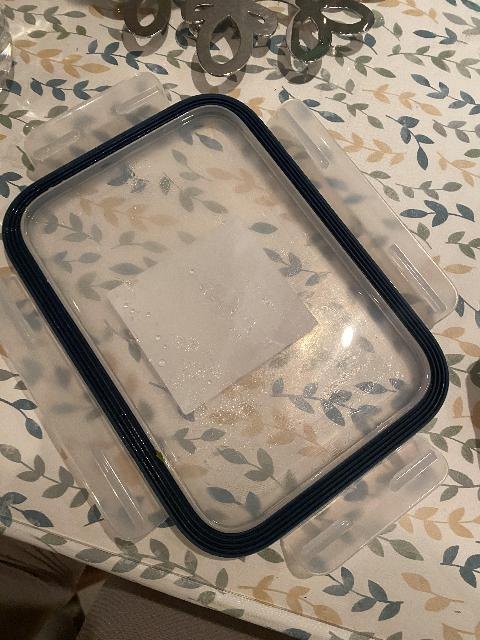Plastik: (14, 86, 473, 565)
